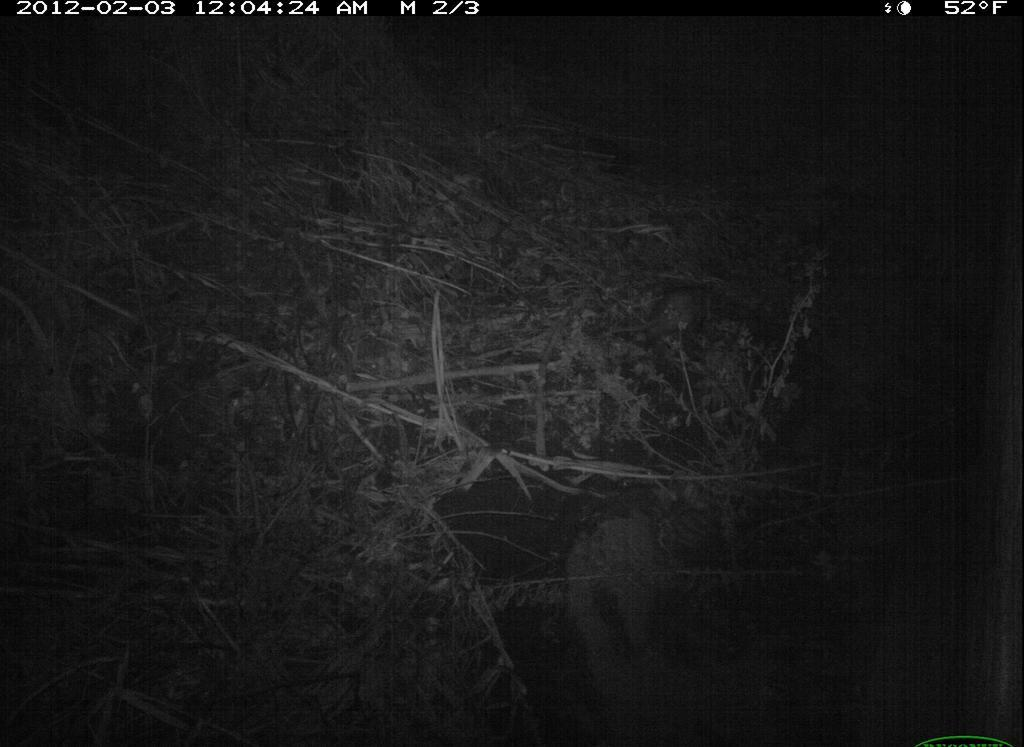opossum: (619, 273, 720, 367)
